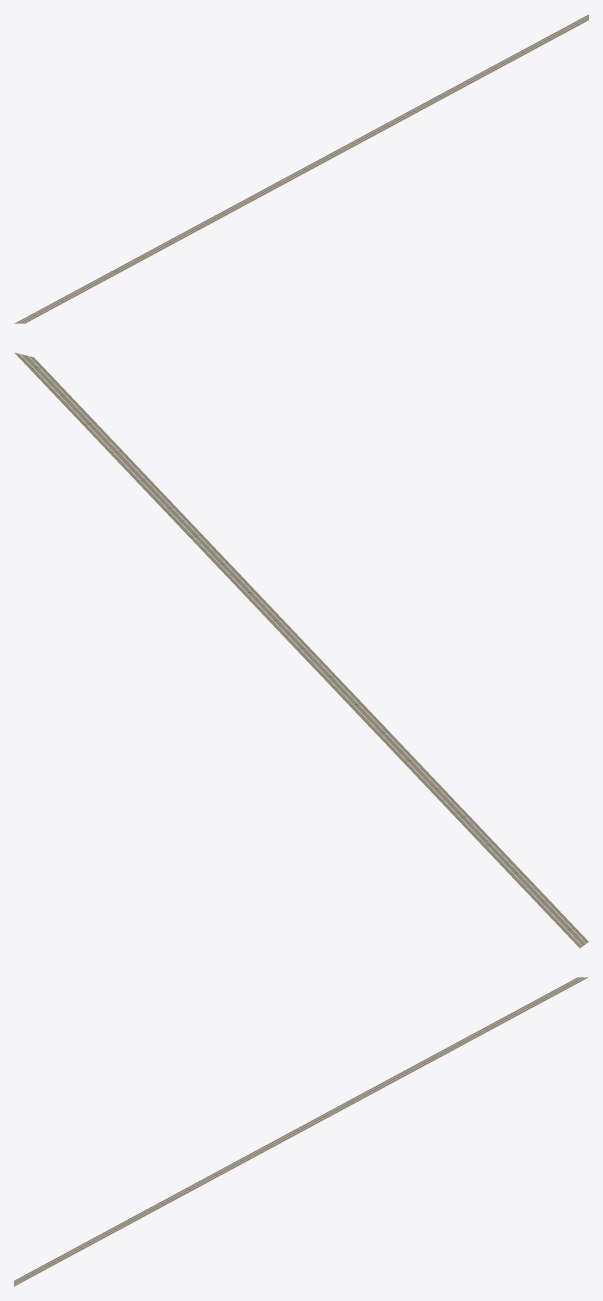
The picture shows the model from 3 angles, top to bottom: view 1: azimuth 90°, elevation 25°; view 2: azimuth 150°, elevation 25°; view 3: azimuth 270°, elevation 25°; orthographic projection. The views are drawn at different scales.
Parts seen in each view (by area): view 1: rail; view 2: rail; view 3: rail.
Boxes of the visible parts, <box> form: rail: <box>14,14,588,323</box>; rail: <box>14,352,588,947</box>; rail: <box>14,977,588,1286</box>.
Bounding box in the file's own units: 301 × 0.04 × 236.
